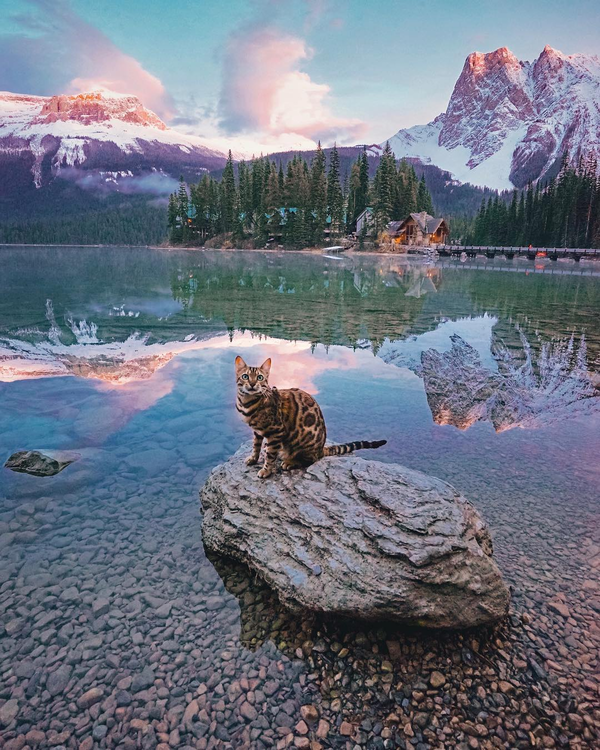cat: (227, 354, 394, 473)
